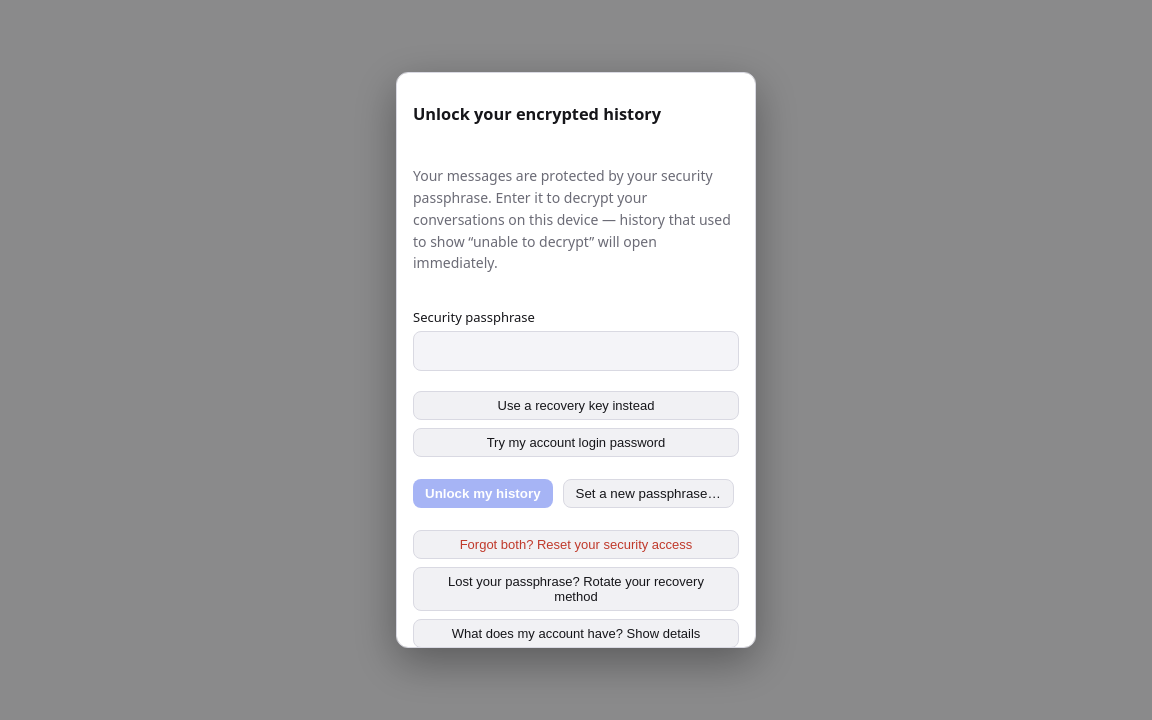
Test: W24 error honesty (mapSecretStorageError family vs verbatim) › decryption-family errors are reworded actionably — raw SDK strings NEVER surface
Step 1. Click the button with test id "rotate-entry" → (576, 589), box [413,567,739,611]
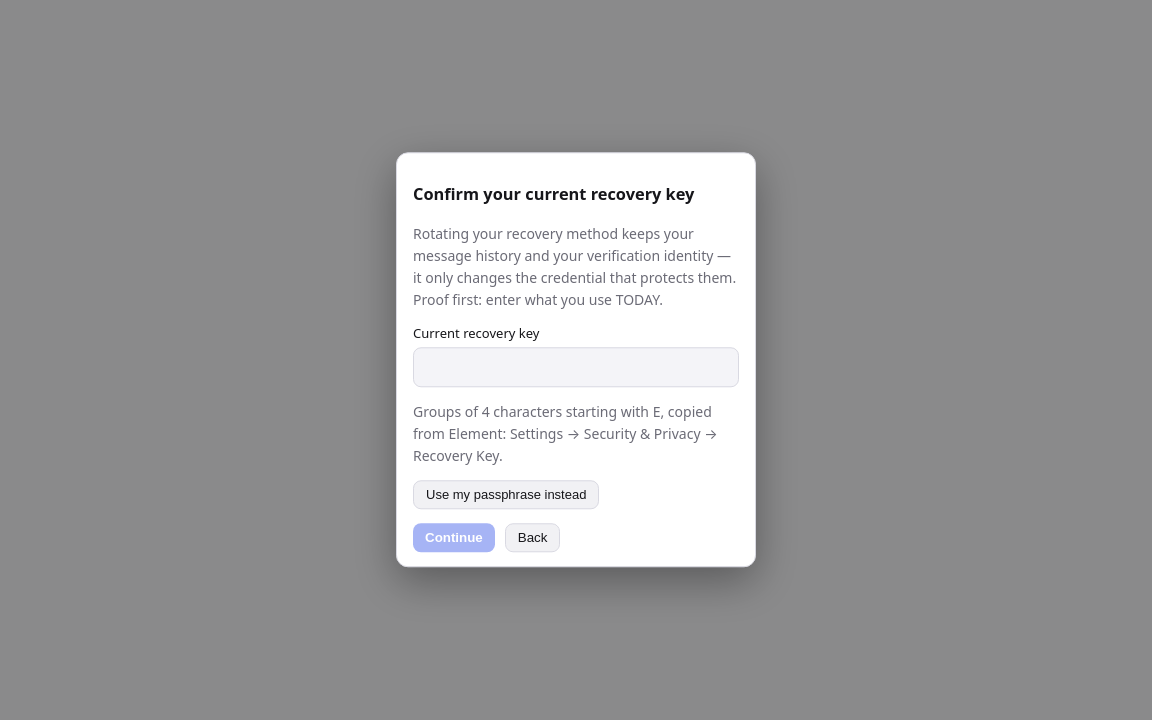
Result: the element with test id "rotate-prove" is shown at [413,167,739,553]
Step 2. Type "EoJp ABCD EFGH IJKL" into the field with test id "rotate-proof" → (576, 368), box [413,347,739,388]
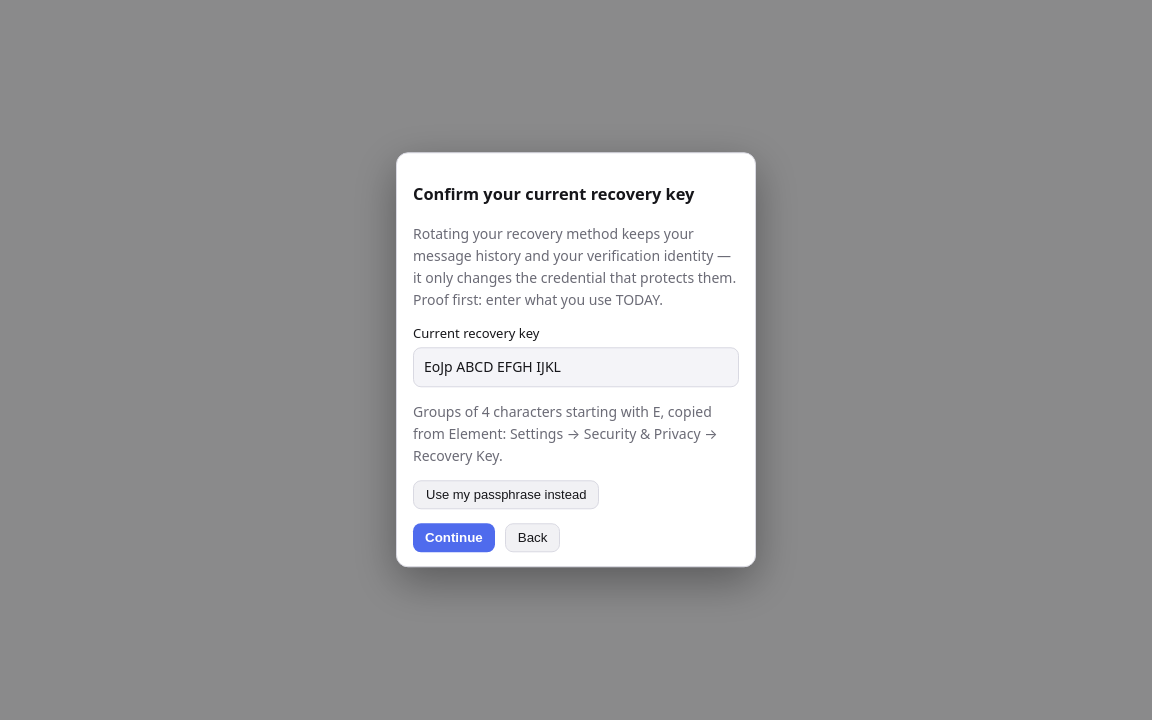
Step 3. Click the button with test id "rotate-prove-next" → (454, 538), box [413,524,495,553]
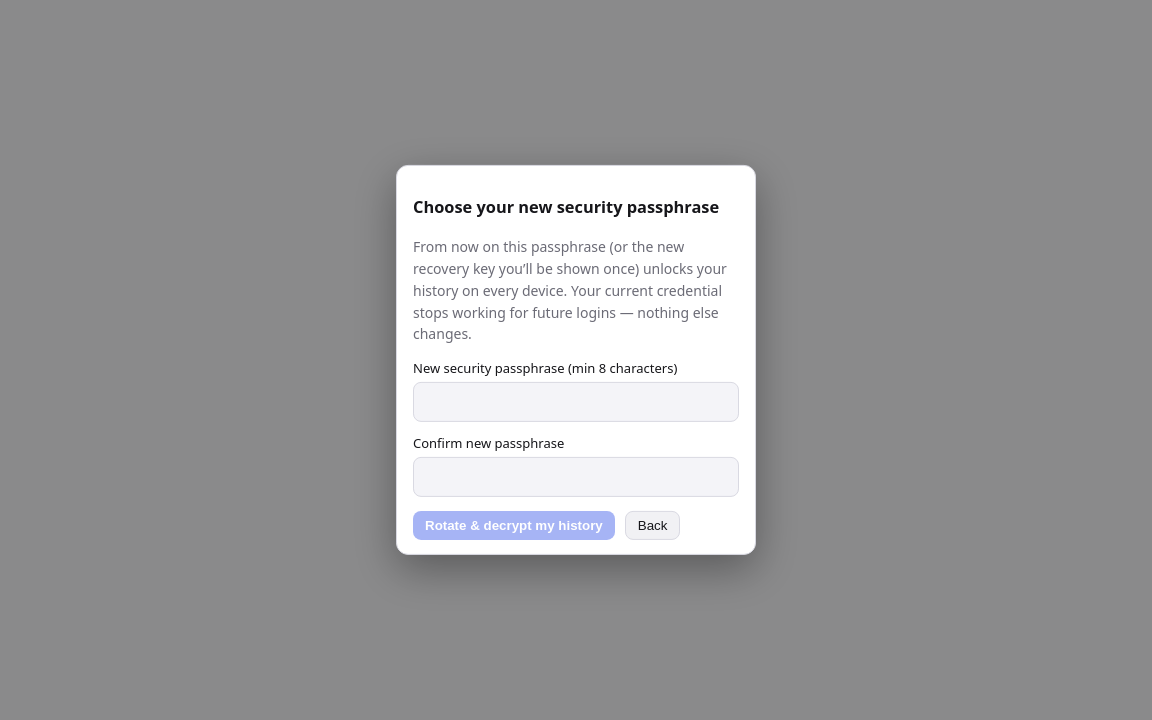
Result: the element with test id "rotate-passphrase" is shown at [413,180,739,540]
Step 4. Type "new passphrase x" into the password field with test id "rotate-pass1" → (576, 402), box [413,382,739,422]
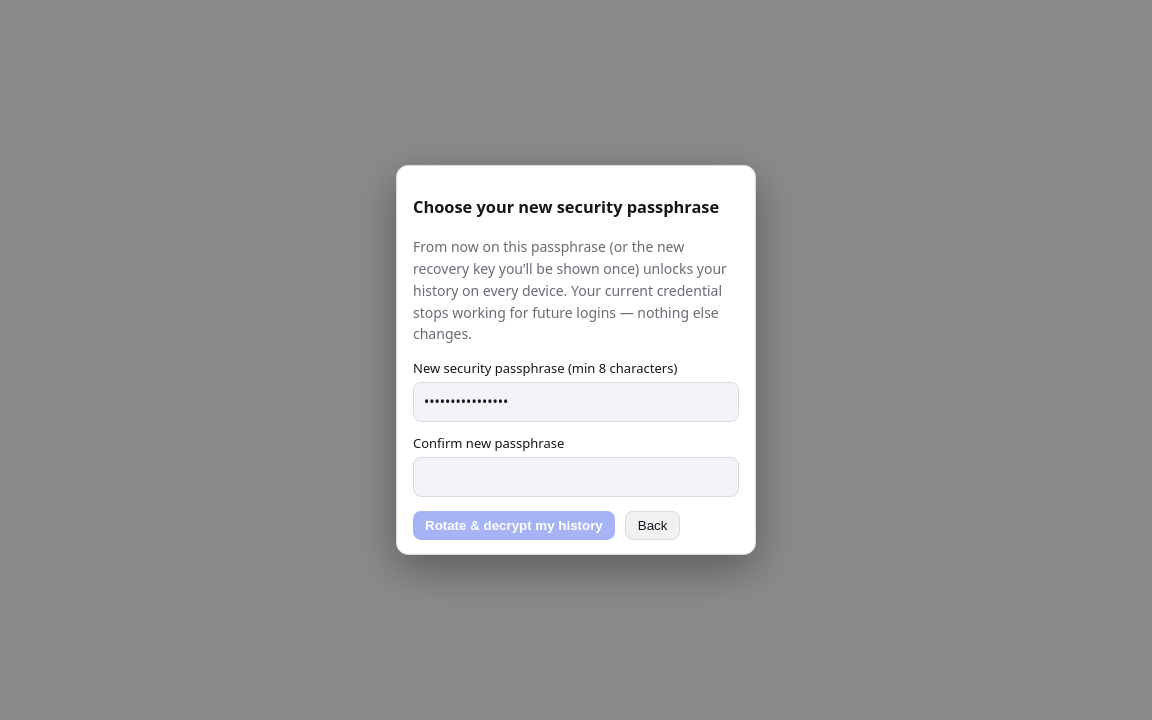
Step 5. Type "new passphrase x" into the password field with test id "rotate-pass2" → (576, 477), box [413,457,739,497]
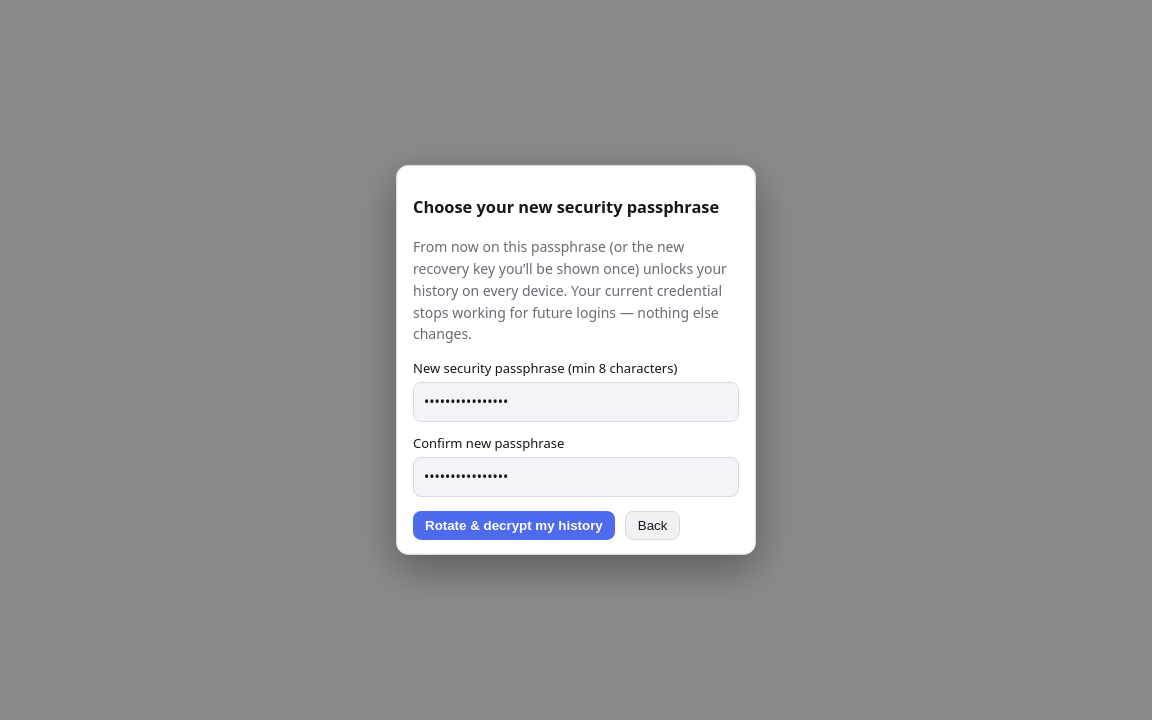
Step 6. Click the button with test id "rotate-go" → (514, 526), box [413,511,615,540]
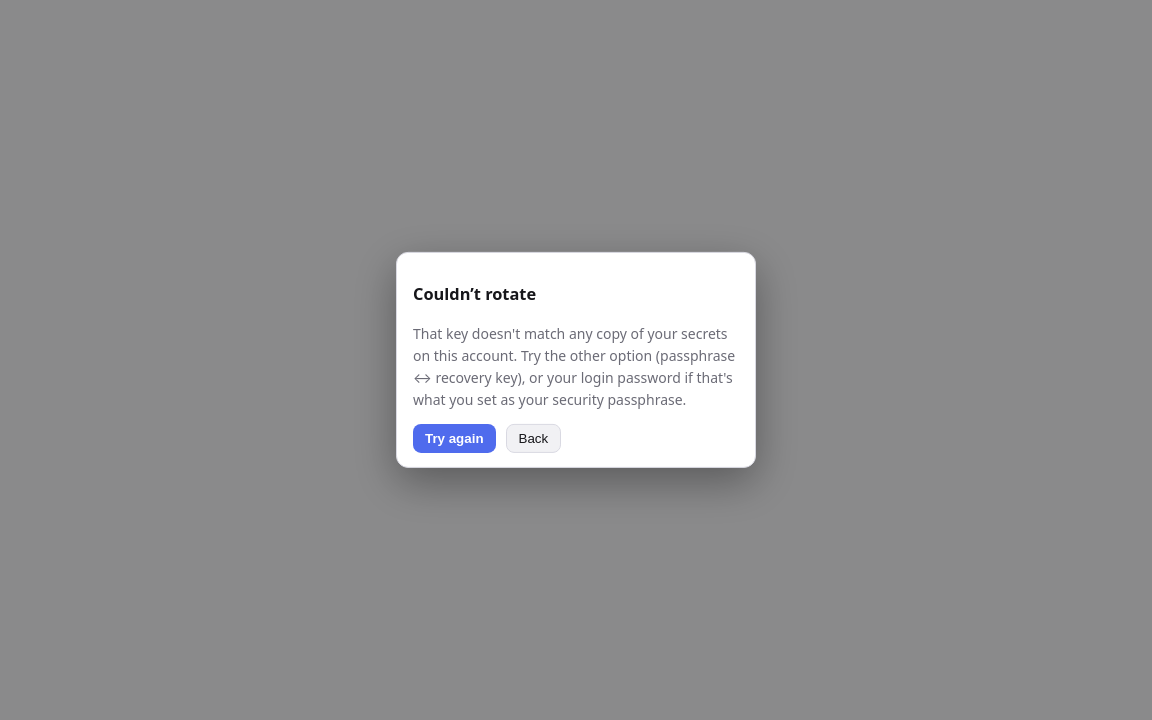
Result: the element with test id "rotate-error" is shown at [413,267,739,453]
Result: the message with test id "rotate-error-message" shows "doesn.t match any copy" at [413,324,735,408]
